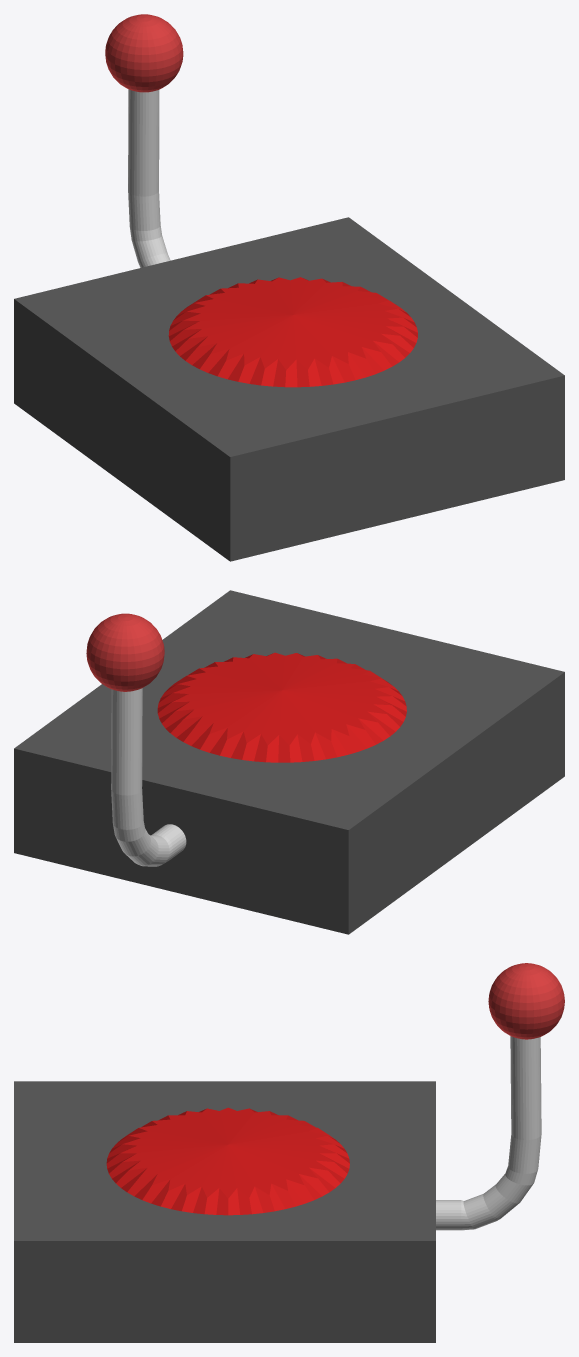
File: button.fbx
The picture shows the model from 3 angles, top to bottom: view 1: azimuth 30°, elevation 25°; view 2: azimuth 150°, elevation 25°; view 3: azimuth 270°, elevation 25°; orthographic projection. The views are drawn at different scales.
Parts seen in each view (by area): view 1: Cylinder; view 2: Cylinder; view 3: Cylinder.
Boxes of the visible parts, x1=… form: Cylinder: x1=14, y1=14, x2=564, y2=561; Cylinder: x1=14, y1=590, x2=564, y2=934; Cylinder: x1=14, y1=963, x2=564, y2=1342.
Bounding box in the file's own units: 670 × 590 × 979.
